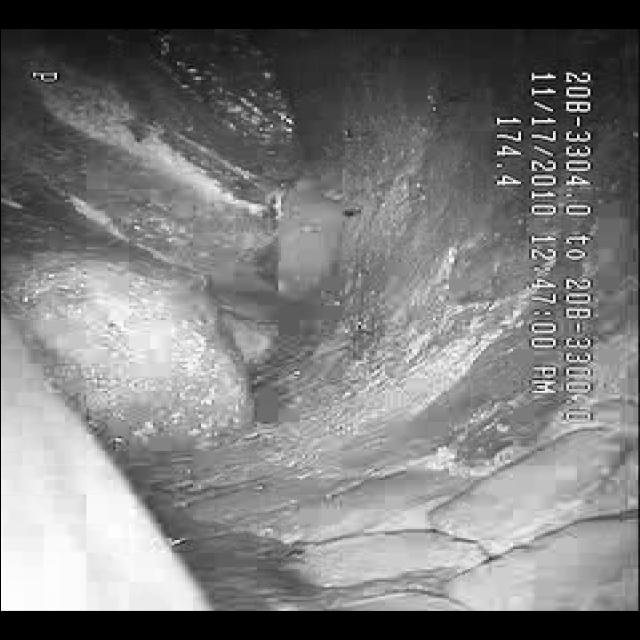Fracture: (244, 444, 570, 598)
